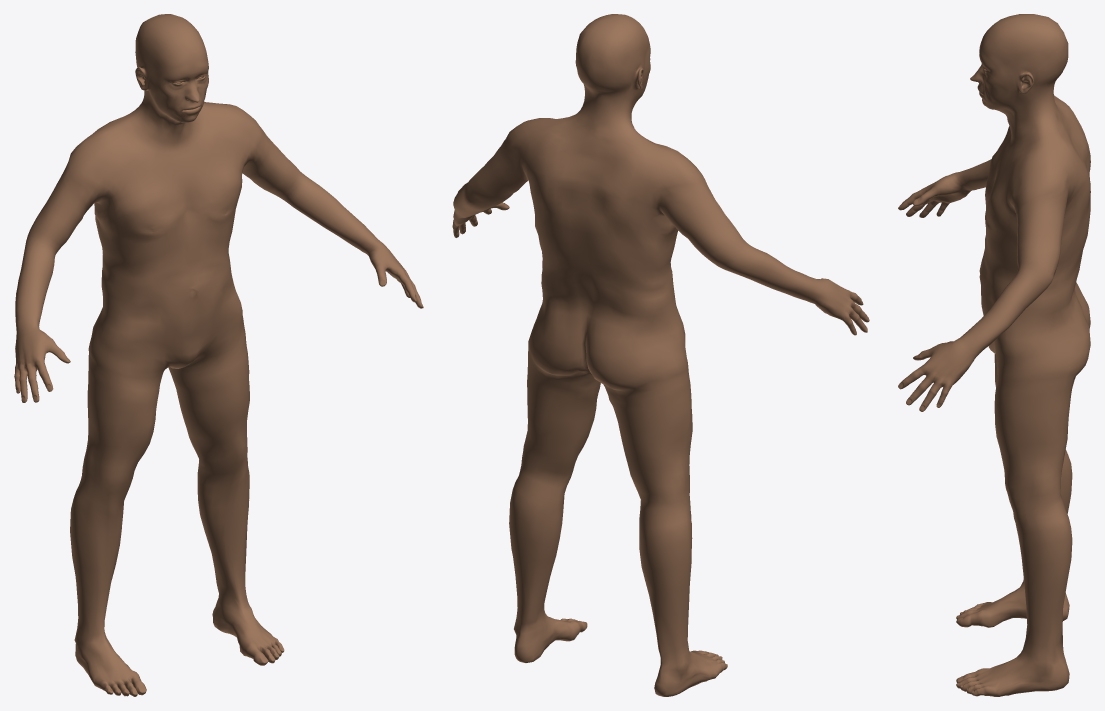
The picture shows the model from 3 angles, left to right: view 1: azimuth 30°, elevation 25°; view 2: azimuth 150°, elevation 25°; view 3: azimuth 270°, elevation 25°; orthographic projection.
Parts seen in each view (by area): view 1: base.obj; view 2: base.obj; view 3: base.obj.
Part boxes in pixels (box(x1,y1,x2,y2)): base.obj: box(14, 14, 423, 696); base.obj: box(452, 14, 869, 696); base.obj: box(898, 14, 1090, 696).
Size of the model in its own units: 9.84 by 15 by 4.1.
